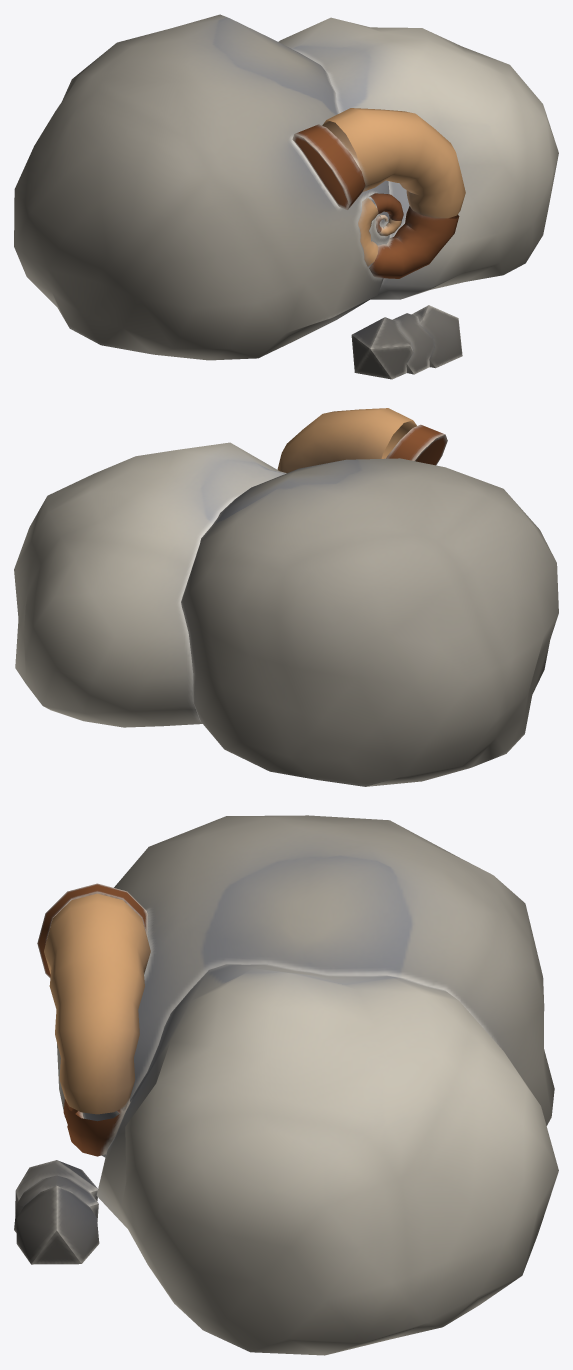
The model's file is node_cracked_rock.glb.
3 renders of one model, top to bottom at view 1: azimuth 30°, elevation 25°; view 2: azimuth 150°, elevation 25°; view 3: azimuth 270°, elevation 25°, orthographic. The views are drawn at different scales.
Visible parts, largest first — view 1: SM_NodeCrackedRock; view 2: SM_NodeCrackedRock; view 3: SM_NodeCrackedRock.
Boxes of the visible parts, x1,y1,x2,y2 form: SM_NodeCrackedRock: [14, 14, 558, 379]; SM_NodeCrackedRock: [14, 408, 558, 786]; SM_NodeCrackedRock: [14, 815, 558, 1355].
Size of the model in its own units: 1.8 by 0.9191 by 1.34.
1 material, 1 textured.
